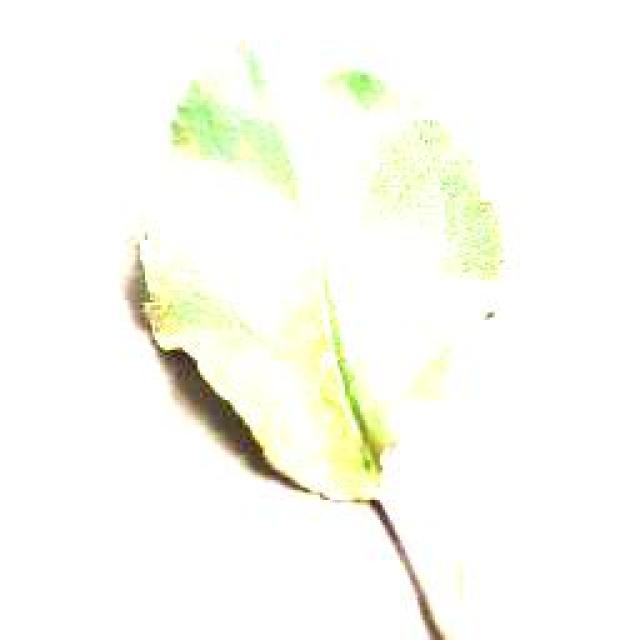apple cedar apple rust: (128, 40, 510, 505)
